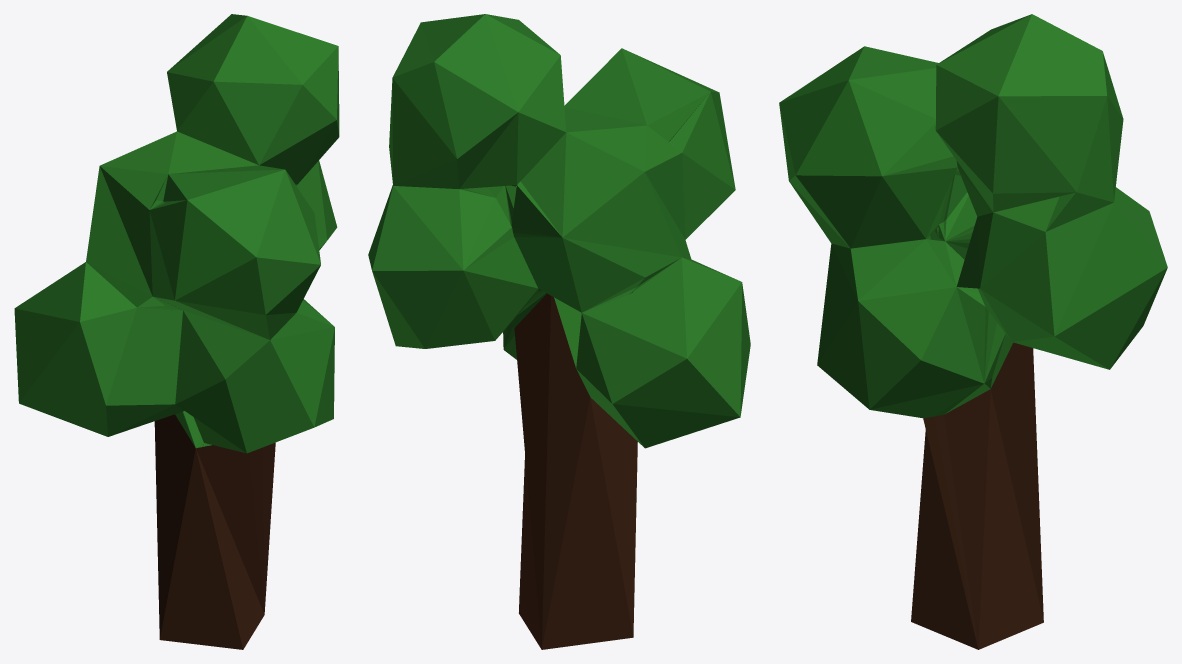
Rendered from tree.fbx.
The picture shows the model from 3 angles, left to right: view 1: azimuth 30°, elevation 25°; view 2: azimuth 150°, elevation 25°; view 3: azimuth 270°, elevation 25°; orthographic projection. The views are drawn at different scales.
Visible parts, largest first — view 1: Cube; view 2: Cube; view 3: Cube.
Boxes of the visible parts, x1=… form: Cube: x1=14, y1=14, x2=339, y2=649; Cube: x1=368, y1=14, x2=750, y2=649; Cube: x1=779, y1=14, x2=1167, y2=649.
Size of the model in its own units: 838 by 1389 by 765.
